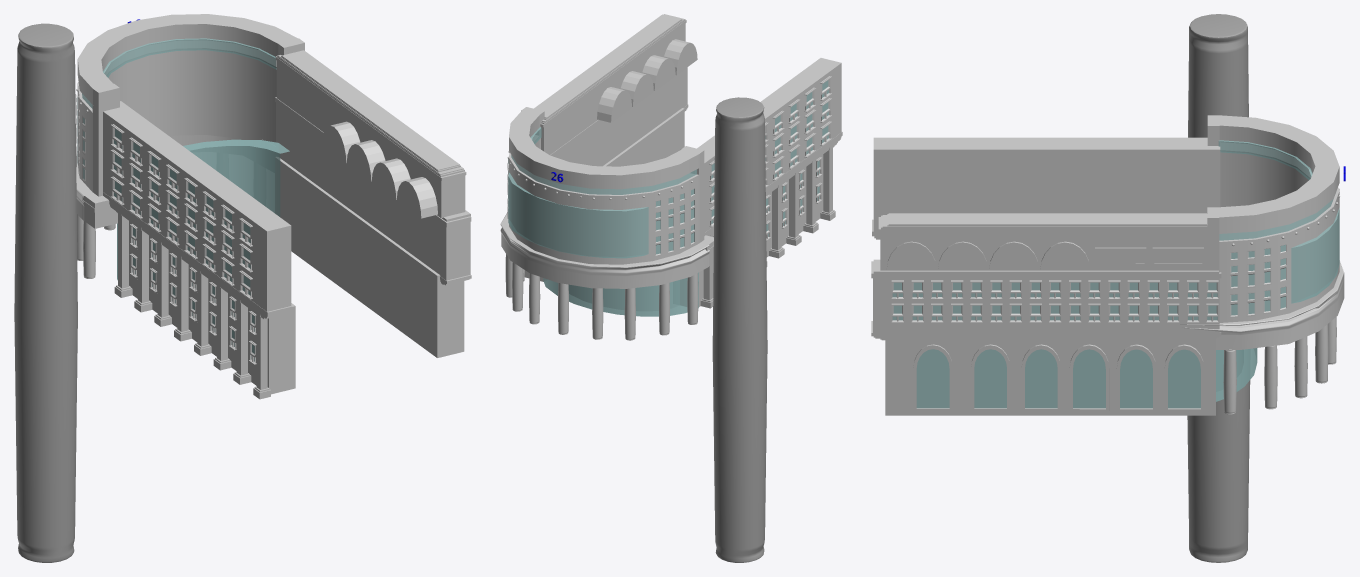
Rendered from 법대ㄹㅇ.fbx.
3 views of the same model, side by side, from view 1: azimuth 30°, elevation 25°; view 2: azimuth 150°, elevation 25°; view 3: azimuth 270°, elevation 25° (orthographic). The views are drawn at different scales.
Parts seen in each view (by area): view 1: pCylinder2, pCube17, pCube28, pPipe1, polySurface160, polySurface169, pPipe2, pCube18, pPipe9, pPipe5, pCube4, pCylinder19 (+14 smaller); view 2: pCylinder2, pPipe1, pPipe4, pCube17, polySurface160, pPipe3, pPipe2, polySurface169, pPipe9, pCube28, pCube18, pPipe5 (+17 smaller); view 3: pCube17, pCube28, polySurface160, pCylinder2, polySurface169, pPipe1, pPipe2, pasted__pPipe75 (×6), pPipe3, pPipe4, polySurface219, polySurface166 (+16 smaller).
Part boxes in pixels (bbox=[...]): pCylinder2: bbox=[14, 23, 77, 562]; pCube17: bbox=[103, 101, 292, 319]; pCube28: bbox=[275, 157, 464, 357]; pPipe1: bbox=[77, 40, 276, 192]; polySurface160: bbox=[275, 50, 466, 218]; polySurface169: bbox=[276, 102, 470, 280]; pPipe2: bbox=[77, 14, 298, 104]; pCube18: bbox=[129, 221, 295, 394]; pPipe9: bbox=[117, 139, 289, 280]; pPipe5: bbox=[82, 38, 276, 108]; pCube4: bbox=[92, 83, 119, 196]; pCylinder19: bbox=[397, 177, 437, 218]; pCylinder2: bbox=[712, 97, 767, 562]; pPipe1: bbox=[509, 135, 699, 264]; pPipe4: bbox=[508, 172, 648, 258]; pCube17: bbox=[691, 58, 842, 236]; polySurface160: bbox=[534, 14, 686, 154]; pPipe3: bbox=[500, 212, 709, 288]; pPipe2: bbox=[509, 110, 699, 189]; polySurface169: bbox=[554, 67, 687, 166]; pPipe9: bbox=[543, 272, 698, 316]; pCube28: bbox=[524, 108, 684, 281]; pCube18: bbox=[680, 154, 823, 306]; pPipe5: bbox=[511, 127, 696, 194]; pCube17: bbox=[872, 137, 1220, 239]; pCube28: bbox=[885, 337, 1215, 415]; polySurface160: bbox=[878, 213, 1216, 270]; pCylinder2: bbox=[1187, 14, 1250, 562]; polySurface169: bbox=[873, 275, 1219, 332]; pPipe1: bbox=[1219, 142, 1339, 324]; pPipe2: bbox=[1218, 115, 1339, 233]; pasted__pPipe75 (×6): bbox=[913, 344, 1204, 411]; pPipe3: bbox=[1180, 261, 1344, 349]; pPipe4: bbox=[1291, 208, 1339, 303]; polySurface219: bbox=[1229, 243, 1286, 318]; polySurface166: bbox=[873, 259, 1218, 275].
Size of the model in its own units: 27.63 by 47.81 by 39.02.
